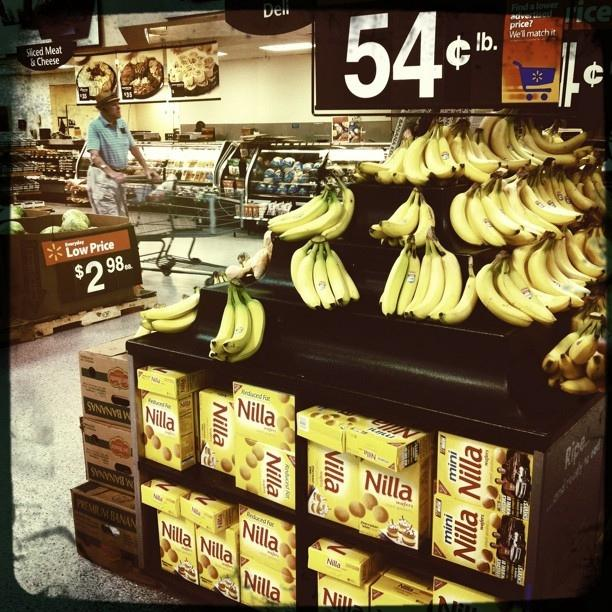banana: (475, 250, 534, 328), (502, 171, 566, 240), (527, 237, 585, 308), (498, 256, 557, 325), (487, 173, 537, 245), (278, 191, 344, 243), (427, 235, 462, 322), (225, 287, 265, 363), (542, 319, 594, 374), (438, 256, 478, 326), (410, 239, 444, 320), (520, 180, 581, 225), (268, 190, 329, 232), (522, 123, 579, 166), (403, 234, 432, 318), (268, 184, 328, 224), (546, 239, 586, 298), (469, 187, 507, 248), (498, 179, 537, 238), (369, 190, 416, 238), (320, 177, 355, 240), (478, 132, 530, 174), (403, 120, 436, 186), (382, 242, 411, 317), (528, 118, 588, 154), (565, 225, 605, 277), (449, 183, 482, 245), (222, 286, 252, 354), (399, 192, 435, 248), (142, 286, 200, 320), (379, 191, 420, 239), (480, 187, 520, 236), (463, 122, 501, 173), (509, 120, 546, 170), (511, 237, 546, 289), (424, 124, 456, 180), (508, 261, 546, 308), (312, 244, 338, 310), (324, 241, 350, 306), (210, 285, 234, 355), (397, 243, 420, 316), (296, 244, 321, 310), (554, 240, 592, 283), (330, 250, 360, 301), (562, 170, 598, 212), (506, 126, 540, 170), (580, 164, 608, 216), (469, 132, 508, 169), (491, 109, 518, 161), (439, 125, 465, 178), (358, 147, 407, 175), (558, 174, 586, 223), (540, 158, 566, 209), (151, 308, 199, 334), (290, 240, 314, 291), (479, 108, 508, 150), (569, 328, 600, 365), (584, 224, 608, 266), (532, 177, 560, 211), (550, 167, 572, 210), (554, 375, 598, 396), (572, 222, 594, 262), (560, 353, 588, 380), (591, 162, 606, 206), (571, 302, 591, 333), (586, 352, 606, 381), (516, 129, 540, 153), (225, 264, 254, 280), (420, 149, 435, 178), (542, 120, 559, 144), (393, 159, 406, 185), (553, 126, 564, 144), (598, 223, 606, 246), (140, 320, 156, 331), (577, 183, 584, 195)
